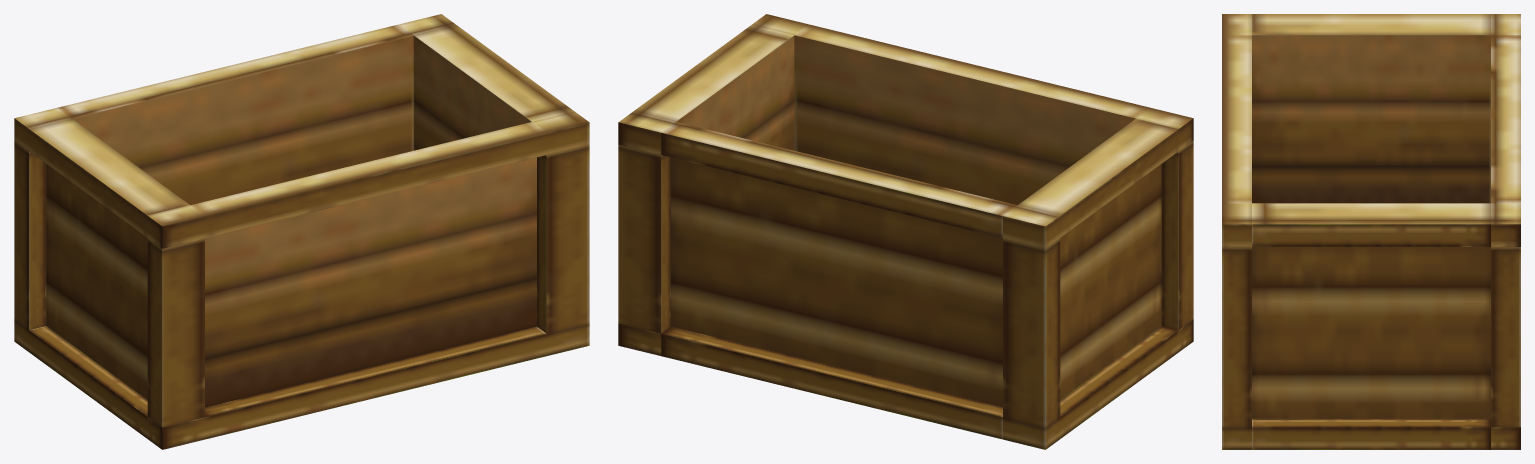
Rendered from Poly_Crate_02.obj.
The picture shows the model from 3 angles, left to right: view 1: azimuth 30°, elevation 25°; view 2: azimuth 150°, elevation 25°; view 3: azimuth 270°, elevation 25°; orthographic projection.
Visible parts, largest first — view 1: Cube; view 2: Cube; view 3: Cube.
Part boxes in pixels (x1,y1,x2,y2): Cube: [14, 14, 589, 449]; Cube: [618, 14, 1193, 449]; Cube: [1222, 14, 1520, 449].
Bounding box in the file's own units: 1 × 0.5 × 0.6.
Materials: 1 (1 with a texture image).
